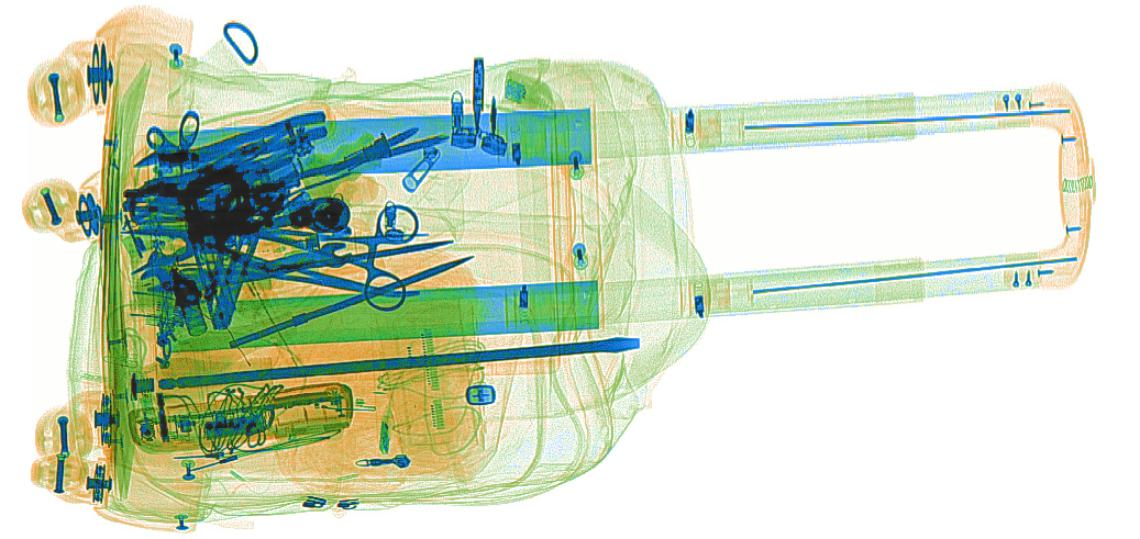battery: (200, 413, 269, 440)
scissors: (133, 198, 421, 312)
